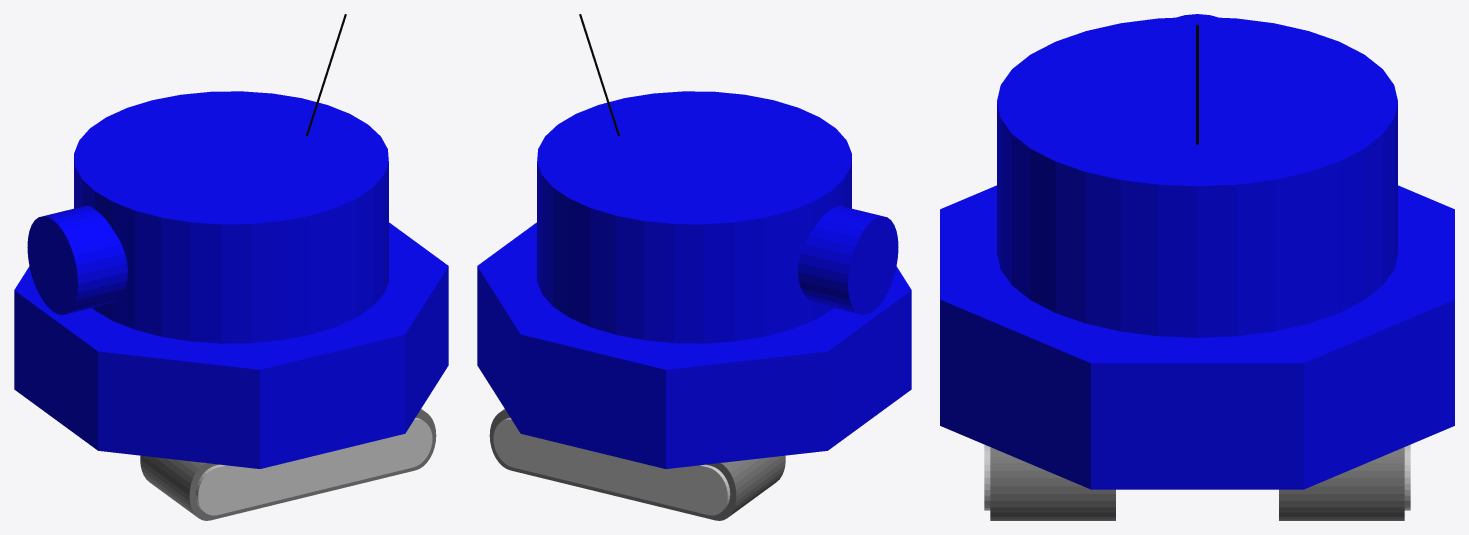
Rendered from tank_blue.dae.
3 renders of one model, left to right at view 1: azimuth 30°, elevation 25°; view 2: azimuth 150°, elevation 25°; view 3: azimuth 270°, elevation 25°, orthographic. The views are drawn at different scales.
Visible parts, largest first — view 1: body, leg; view 2: body, leg; view 3: body, leg.
Boxes of the visible parts, x1,y1,x2,y2 form: body: (27,14,388,343); leg: (14,222,448,520); body: (537,14,898,343); leg: (477,222,911,520); body: (997,14,1397,337); leg: (940,185,1454,520).
Size of the model in its own units: 0.0291 by 0.0288 by 0.0309.
